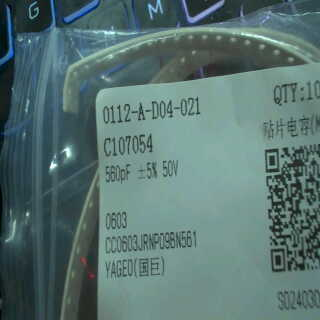560pF: (102, 162, 135, 185)
